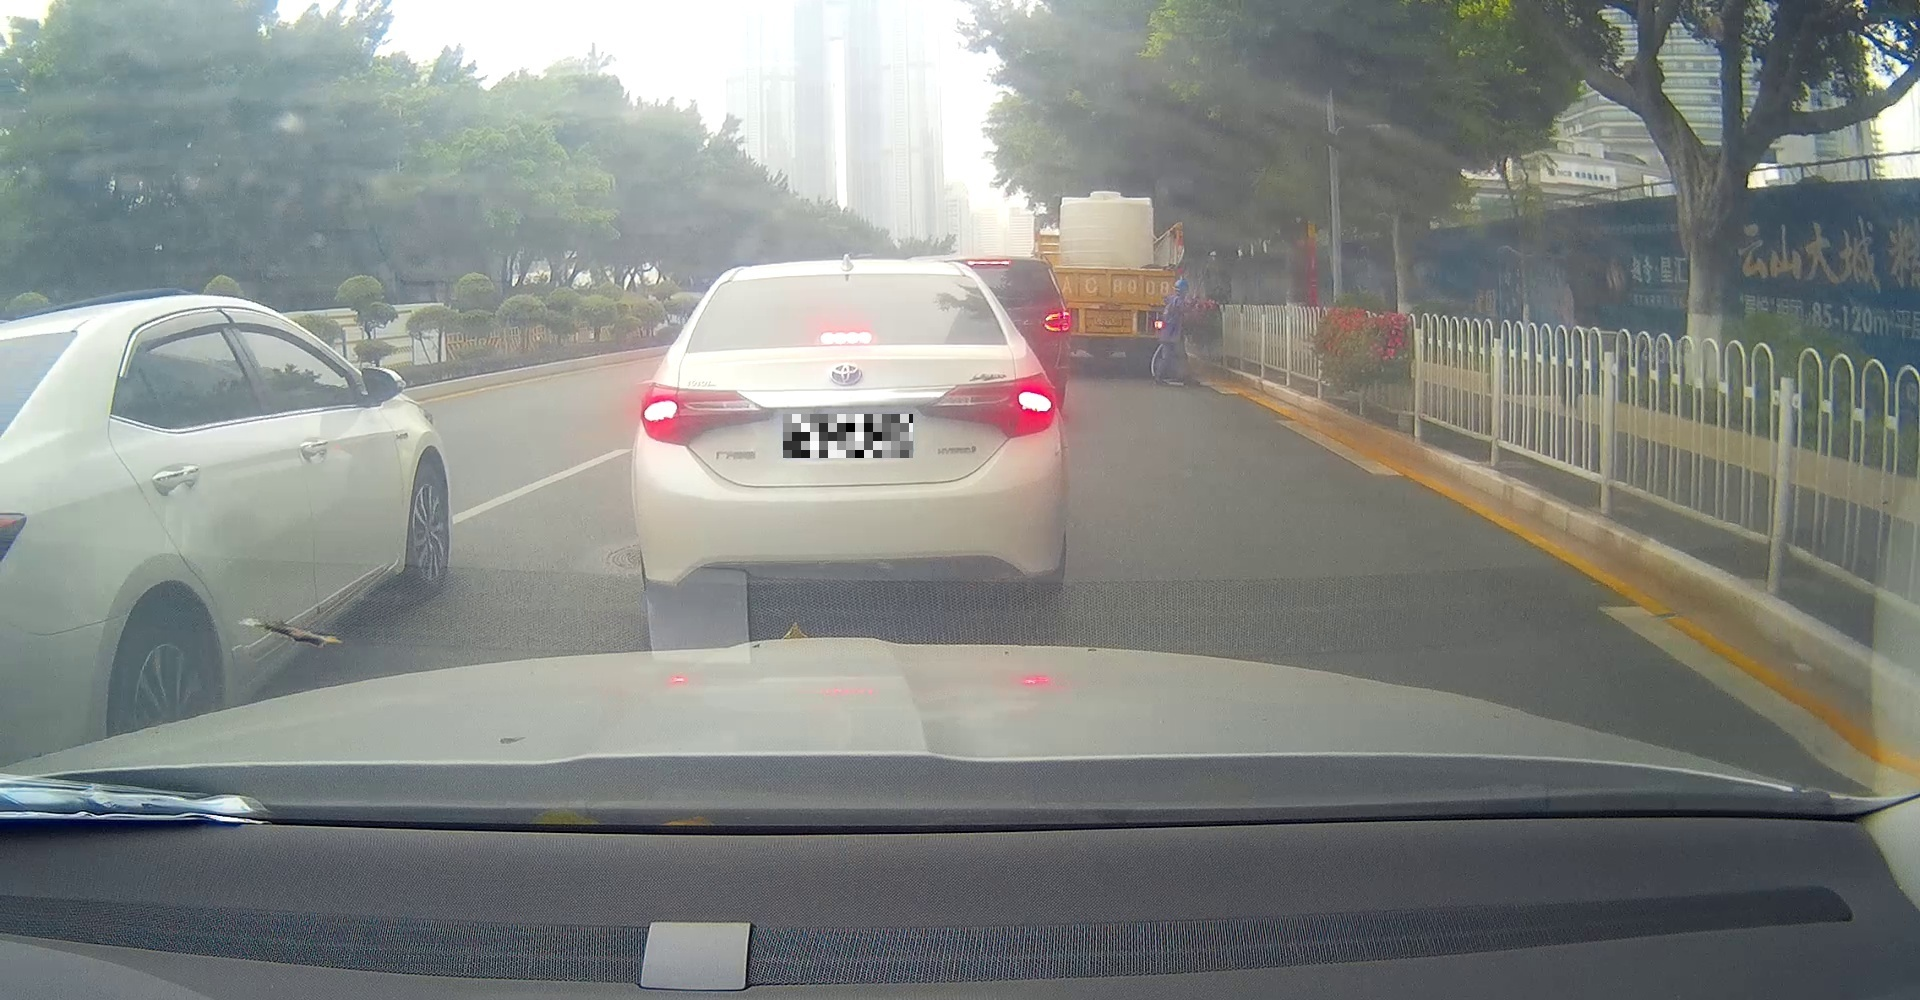L_light: (639, 383, 775, 447)
R_light: (917, 372, 1057, 439)
T_light: (819, 331, 872, 345)
day-brake: (629, 258, 1065, 614)
plate_1: (783, 414, 913, 458)
